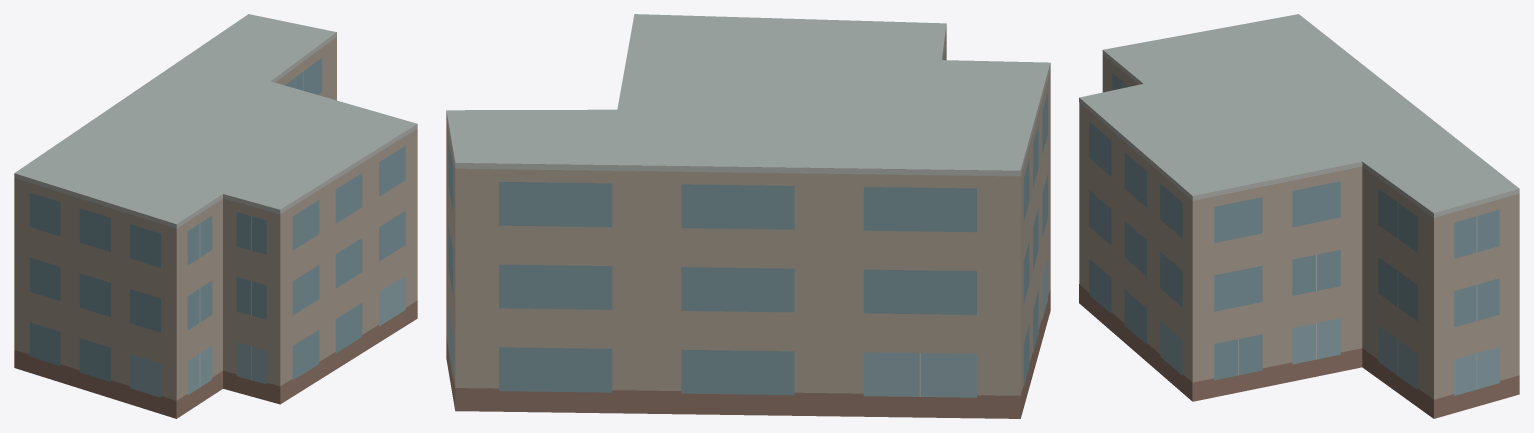
File: survey-upis-32468062.glb
3 views of the same model, side by side, from view 1: azimuth 30°, elevation 25°; view 2: azimuth 150°, elevation 25°; view 3: azimuth 270°, elevation 25° (orthographic). The views are drawn at different scales.
Parts seen in each view (by area): view 1: survey-upis-32468062.tmp; view 2: survey-upis-32468062.tmp; view 3: survey-upis-32468062.tmp.
Part boxes in pixels (box(x1,y1,x2,y2)): survey-upis-32468062.tmp: box(14, 14, 417, 418); survey-upis-32468062.tmp: box(446, 14, 1050, 418); survey-upis-32468062.tmp: box(1079, 14, 1519, 418).
Bounding box in the file's own units: 21.82 × 10.5 × 20.39.
